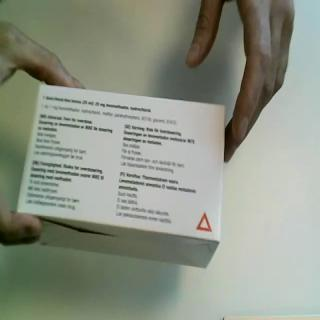levopidon25mg: (16, 82, 227, 270)
